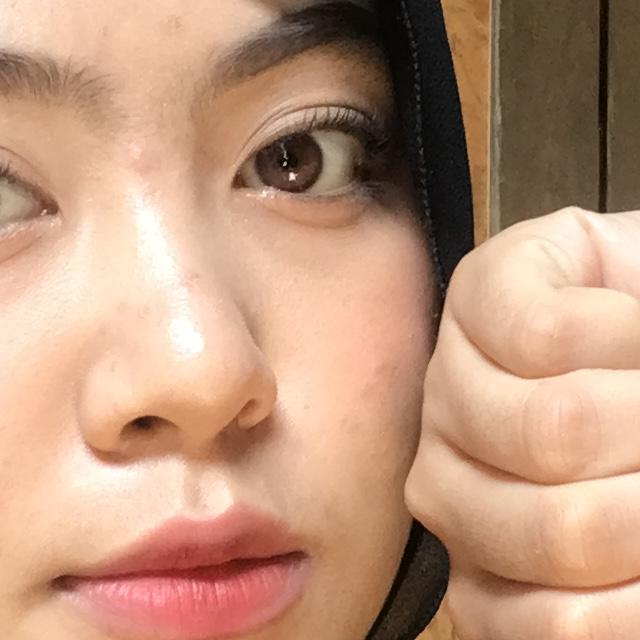sedih: (330, 126, 640, 640)
